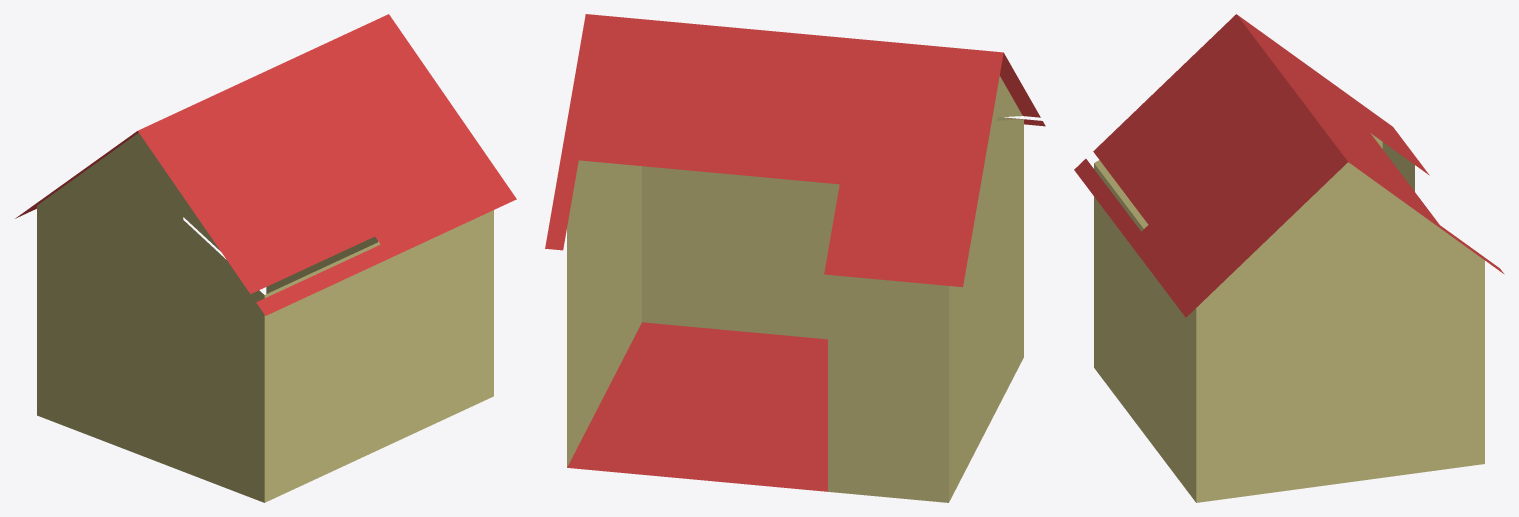
The picture shows the model from 3 angles, left to right: view 1: azimuth 30°, elevation 25°; view 2: azimuth 150°, elevation 25°; view 3: azimuth 270°, elevation 25°; orthographic projection. The views are drawn at different scales.
Bounding box in the file's own units: 14.22 × 13.54 × 11.36.
